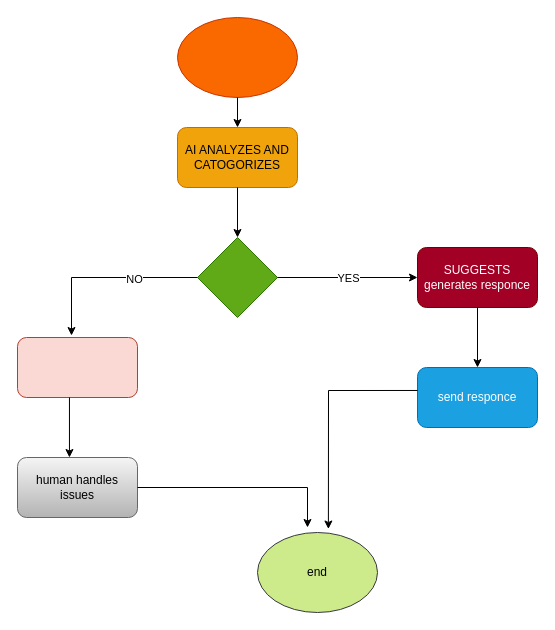
Image size: 555x630. Some labels were removed from this diagram. Here are the shapes that lost their labels. From the top down, the box of each, then its label:
(176, 16, 298, 98): INCOMIG EMAIL TICKET
(196, 236, 278, 318): COMMON QUERY
(16, 336, 138, 398): ROLE TO HUMAN AGENT
